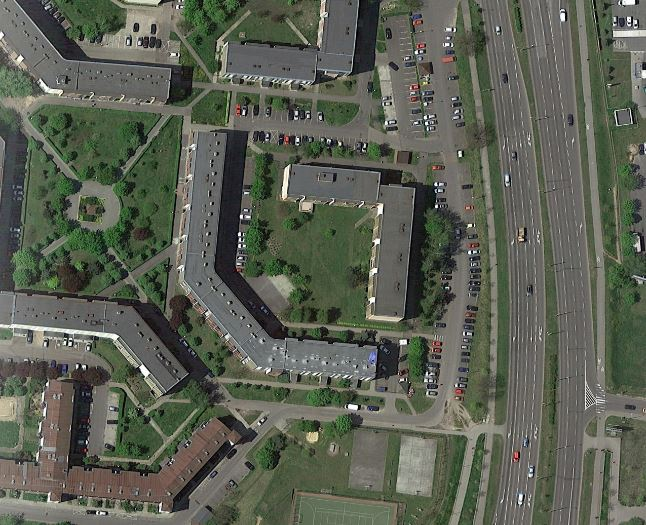block of flats: (178, 126, 384, 385), (1, 376, 245, 516), (278, 155, 422, 334), (1, 280, 189, 401), (1, 1, 181, 111), (212, 1, 363, 91)
